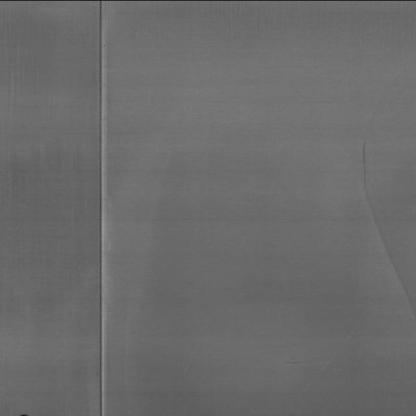welding_line: (86, 1, 117, 416)
